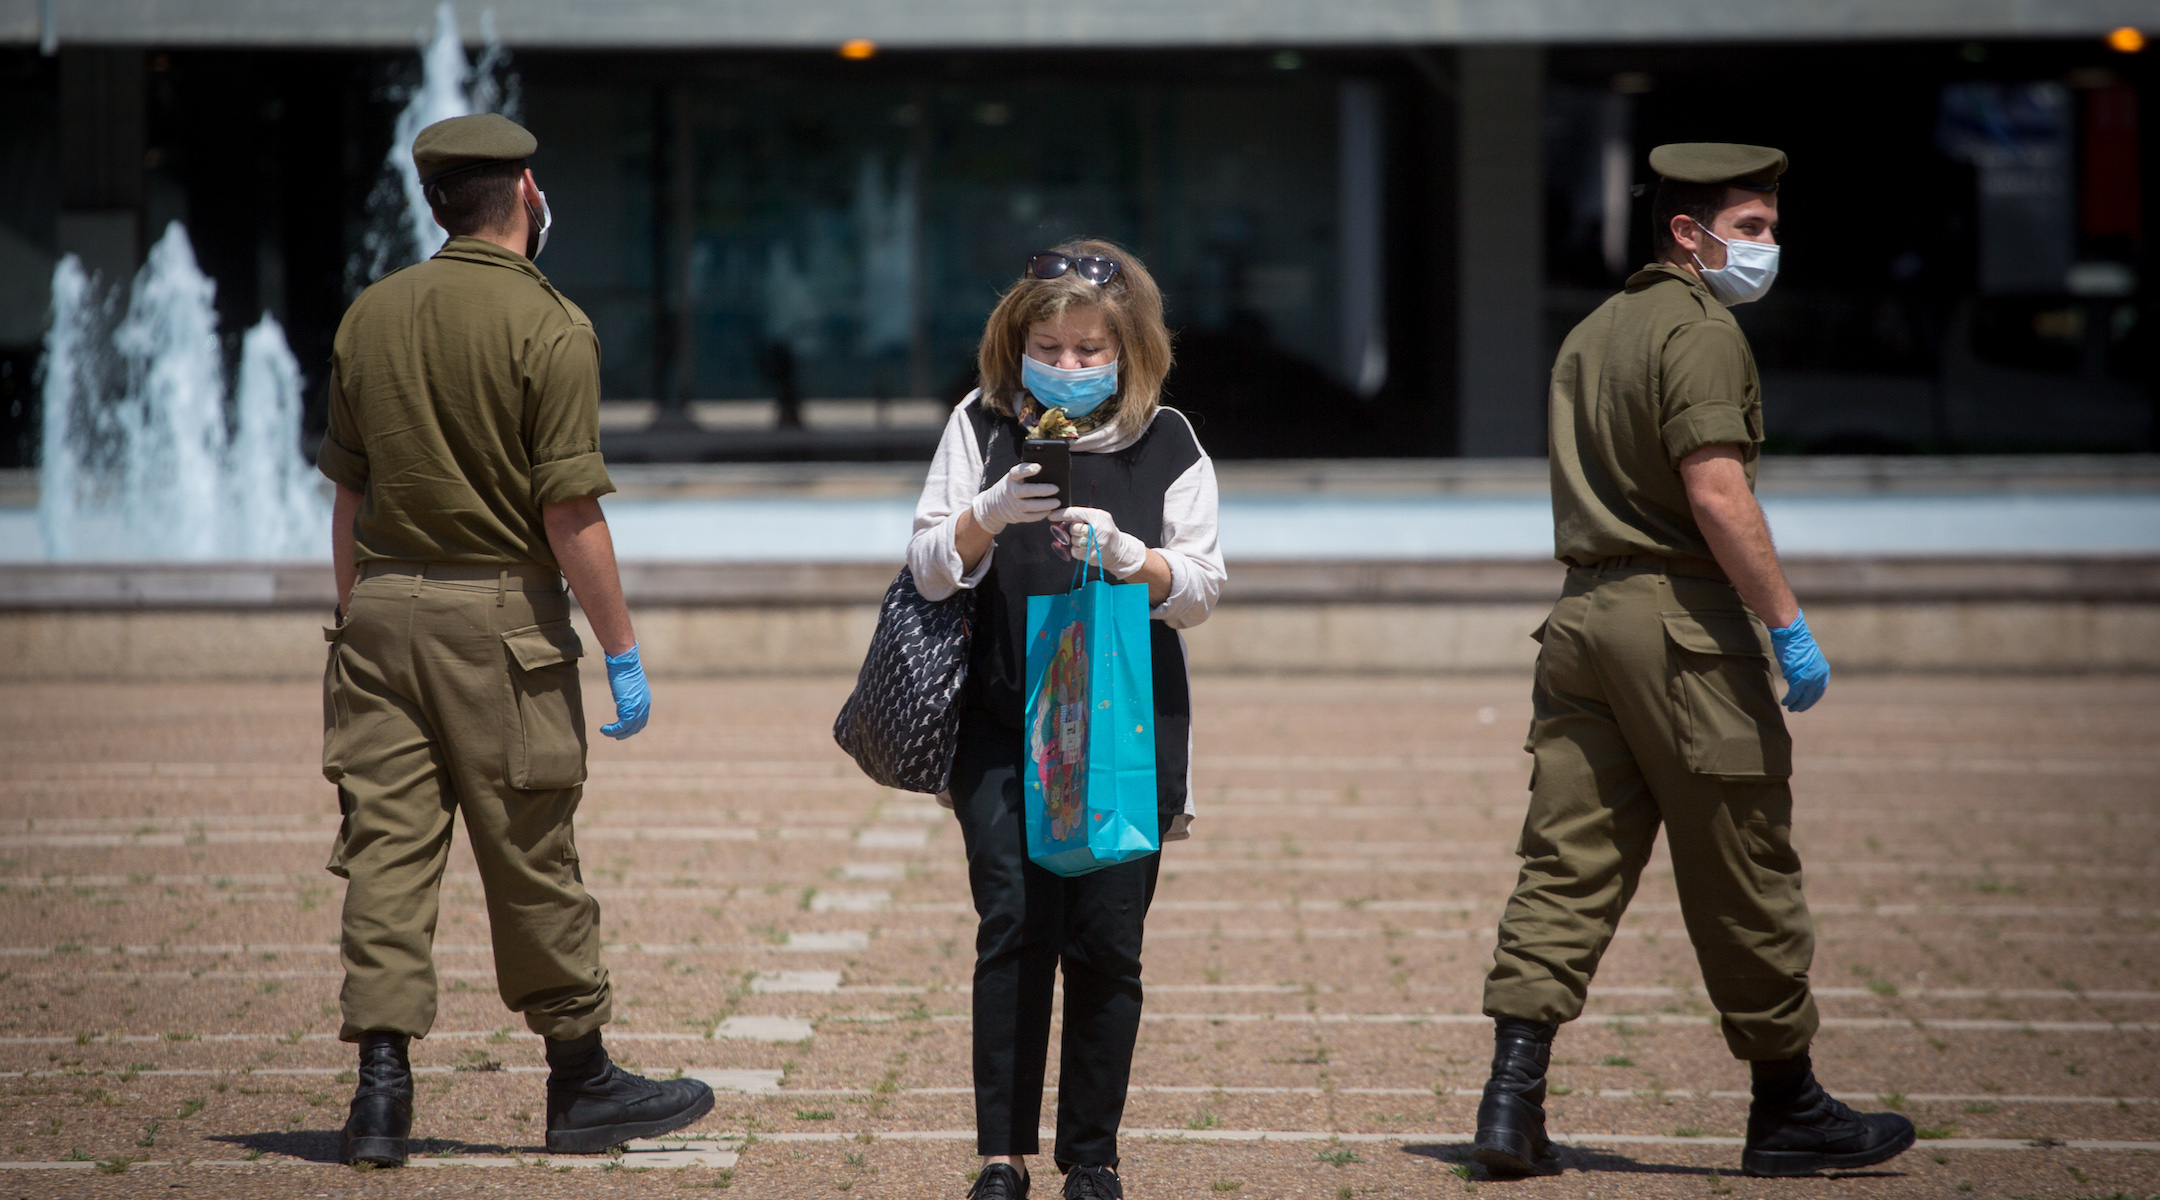Person: (1459, 123, 1947, 1173), (301, 108, 736, 1142), (832, 227, 1259, 1200)
